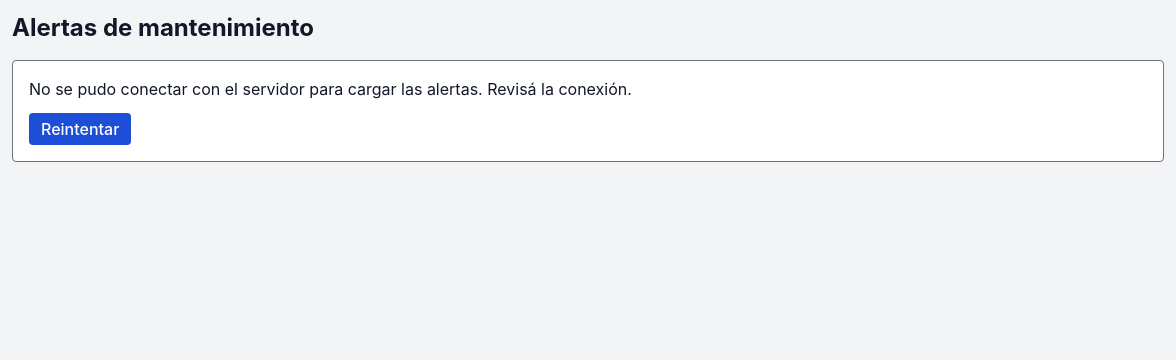
Scenario: FleetAlertsPage › si falla la primera carga ofrece Reintentar y se recupera
Expected: the message reads "No se pudo conectar con el servidor para cargar las alertas. Revisá la conexión.", [29,79,632,99]
Step 1. Click the button "Reintentar" → click(80, 129), box [29,113,131,145]
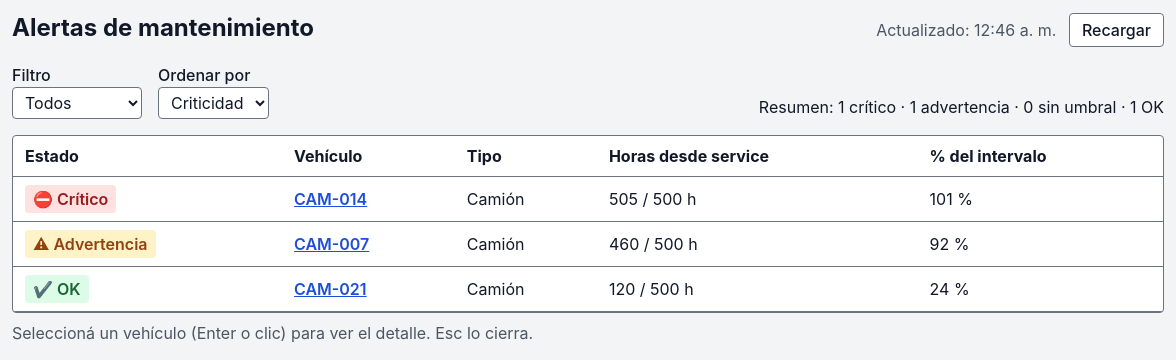
Now the table is shown, box [13,136,1163,312]
